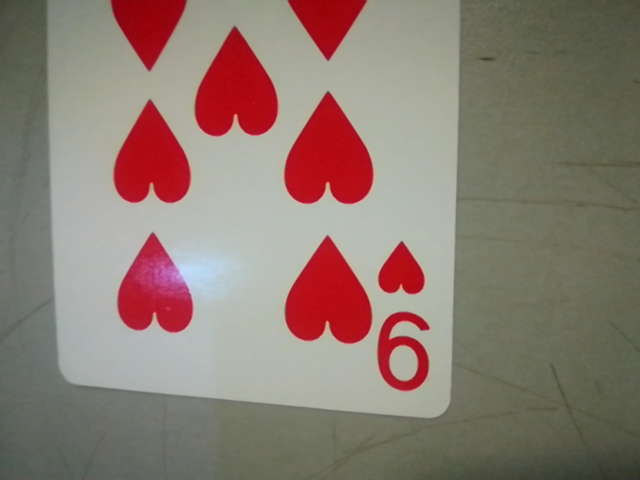hx 9: (367, 226, 445, 404)
